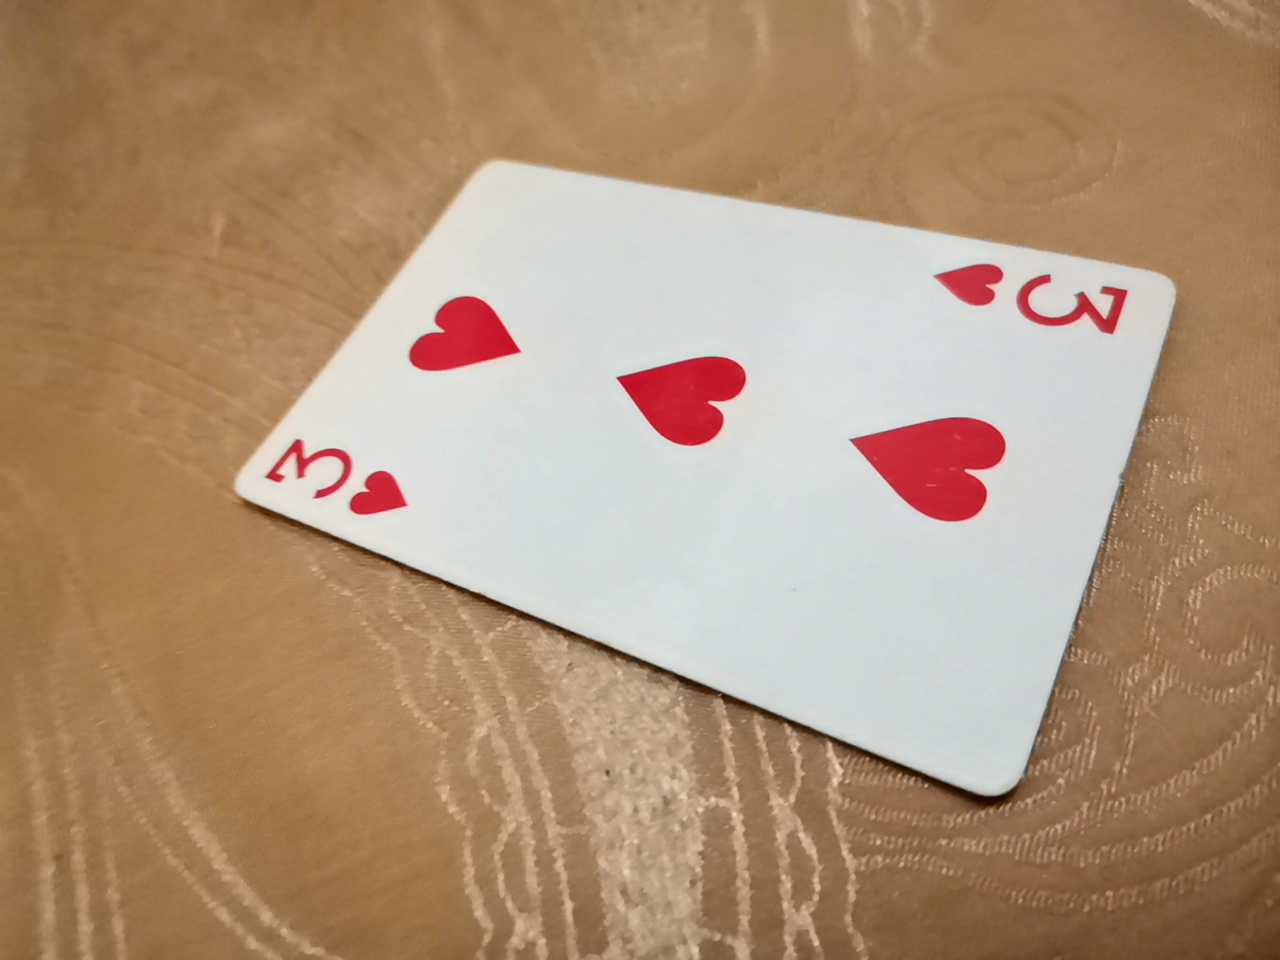hx 3: (227, 139, 1199, 785)
